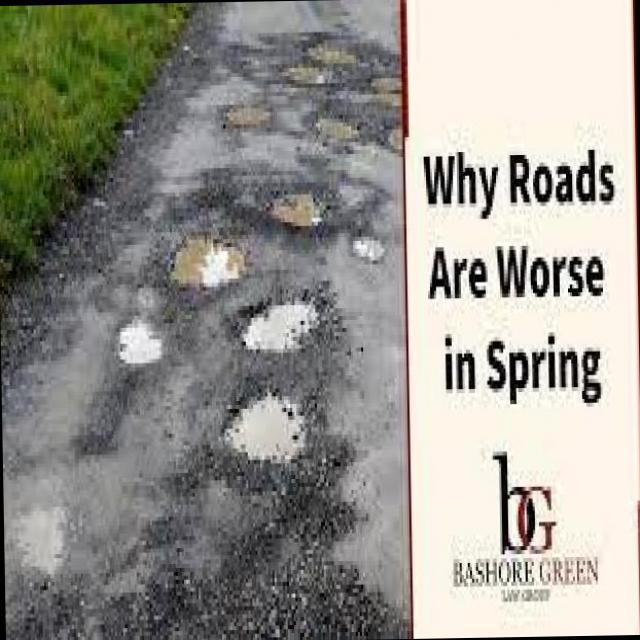Pothole: (236, 396, 315, 463), (284, 31, 360, 87), (247, 301, 313, 356), (272, 194, 315, 230), (174, 239, 209, 283), (316, 114, 359, 142), (223, 108, 270, 132), (375, 78, 399, 101)
